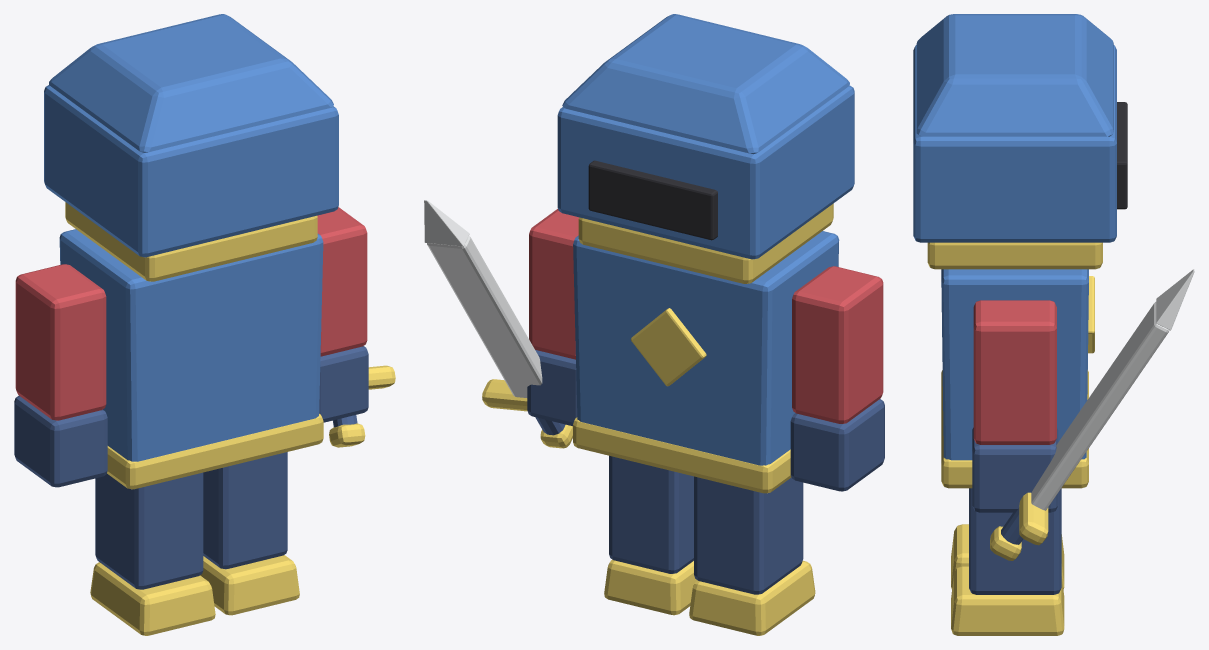
The model's file is swordman.glb.
The picture shows the model from 3 angles, left to right: view 1: azimuth 30°, elevation 25°; view 2: azimuth 150°, elevation 25°; view 3: azimuth 270°, elevation 25°; orthographic projection.
Parts seen in each view (by area): view 1: TorsoBody, Helmet, HelmetTop, UpperL, ShinL, ShinR, UpperR, ForeL, Collar, Belt, BootL, BootR (+3 smaller); view 2: TorsoBody, Helmet, HelmetTop, UpperL, ShinL, ShinR, Blade, Visor, ForeL, Collar, UpperR, Belt (+6 smaller); view 3: HelmetTop, Helmet, TorsoBody, UpperR, Blade, ShinR, BootR, Collar, ForeR, Belt, Visor, Guard (+5 smaller).
Part boxes in pixels (x1,y1,x2,y2): TorsoBody: (59,229,323,461); Helmet: (44,85,338,257); HelmetTop: (49,14,333,152); UpperL: (15,264,106,420); ShinL: (95,472,203,589); ShinR: (203,452,287,569); UpperR: (317,207,367,356); ForeL: (14,396,107,487); Collar: (65,202,317,281); Belt: (107,413,323,489); BootL: (90,562,215,635); BootR: (200,555,299,615); TorsoBody: (573,231,839,465); Helmet: (557,85,854,259); HelmetTop: (562,14,849,154); UpperL: (792,266,883,423); ShinL: (694,476,803,594); ShinR: (609,455,693,573); Blade: (427,236,542,397); Visor: (588,160,717,240); ForeL: (790,399,884,491); Collar: (578,203,833,283); UpperR: (529,209,578,359); Belt: (573,417,791,493); HelmetTop: (916,14,1113,136); Helmet: (913,45,1116,242); TorsoBody: (941,269,1088,460); UpperR: (973,300,1056,444); Blade: (1031,302,1169,510); ShinR: (969,488,1061,594); BootR: (951,566,1064,635); Collar: (927,242,1102,269); ForeR: (972,427,1058,512); Belt: (941,370,1088,488); Visor: (1117,102,1127,209); Guard: (1019,492,1048,545).
Size of the model in its own units: 0.6999 by 0.99 by 0.4556.
